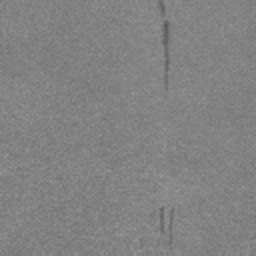Red iron sheet: (162, 20, 170, 72), (159, 207, 164, 234), (158, 0, 166, 16)
